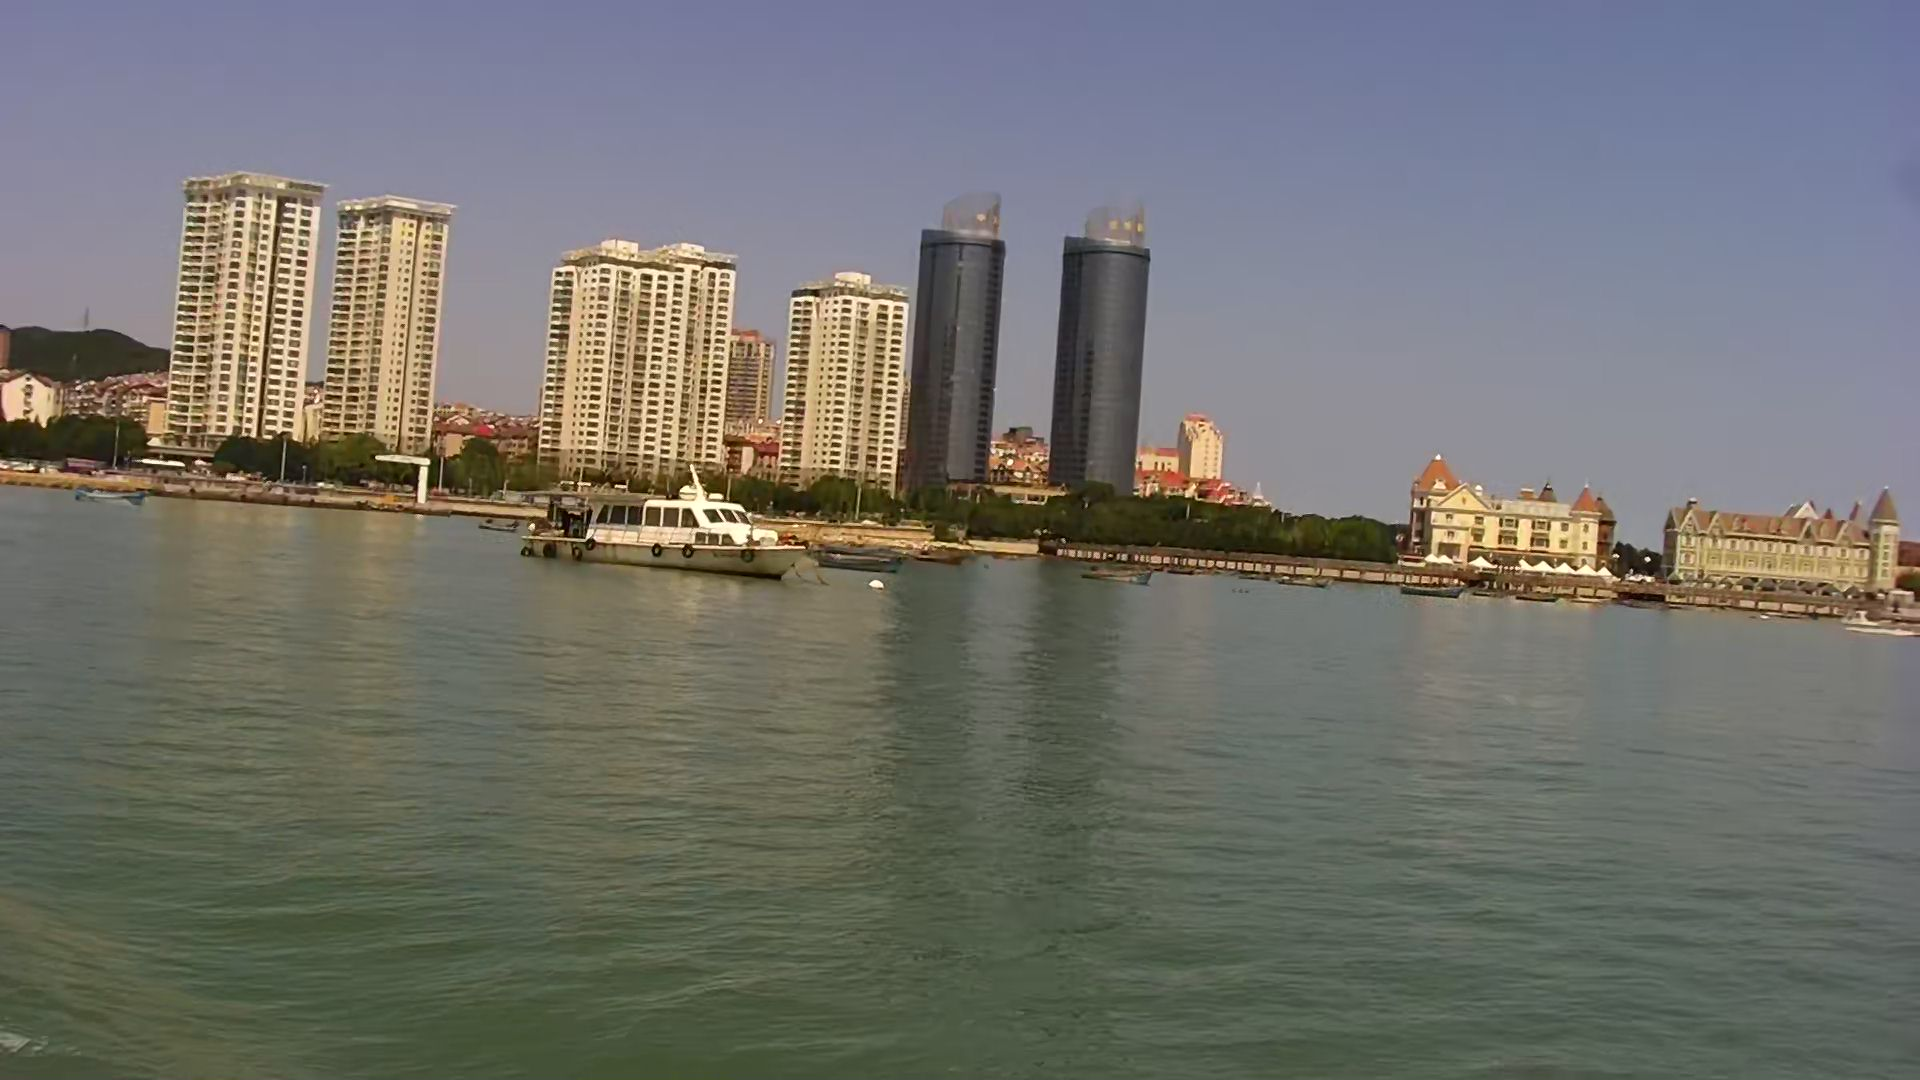ball: (866, 578, 887, 593)
boat: (65, 483, 158, 512), (1073, 560, 1160, 589)
ship: (520, 477, 808, 585)
